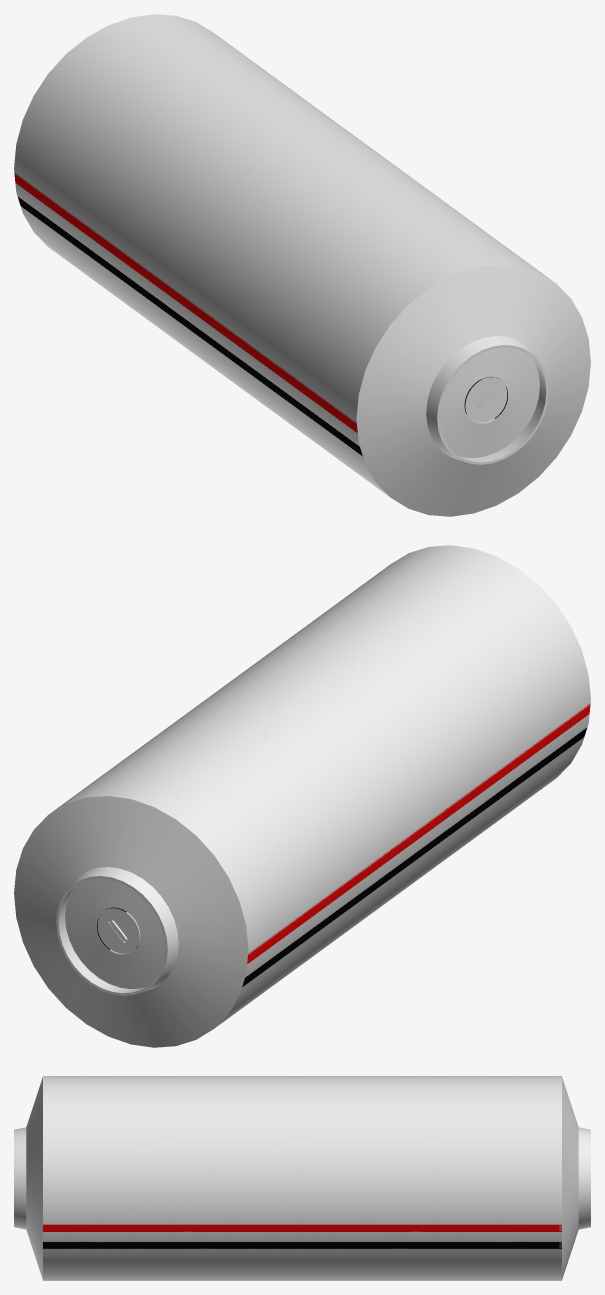
3 renders of one model, top to bottom at view 1: azimuth 30°, elevation 25°; view 2: azimuth 150°, elevation 25°; view 3: azimuth 270°, elevation 25°, orthographic. The views are drawn at different scales.
Visible parts, largest first — view 1: Cylinder; view 2: Cylinder; view 3: Cylinder.
Part boxes in pixels (x1,y1,x2,y2): Cylinder: [14, 14, 590, 516]; Cylinder: [14, 545, 590, 1047]; Cylinder: [14, 1076, 590, 1280].
Bounding box in the file's own units: 2 × 2 × 5.63.
1 material, 1 textured.
